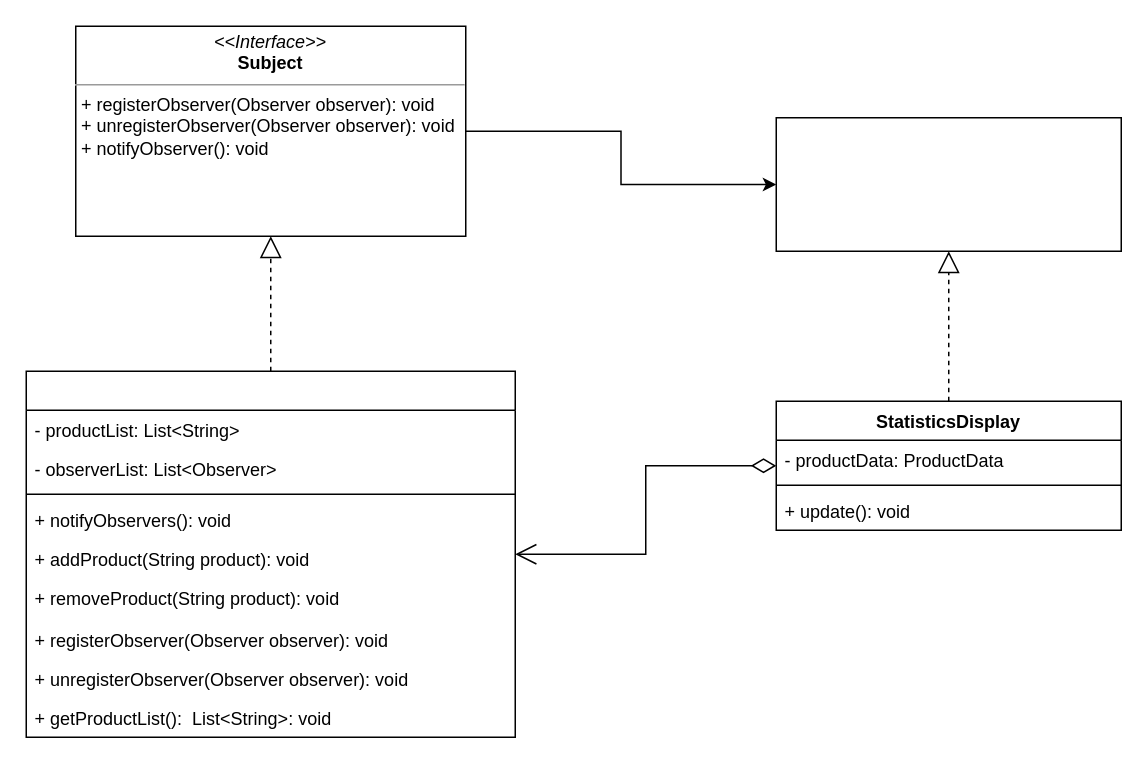
The diagram is 1148 pixels wide and 768 high, and some of its shapes have lost their labels. Each missing label, with the box of its shape:
<<Interface>> Observer + update(): void: (775, 116, 1121, 251)
ProductData: (25, 370, 515, 737)
